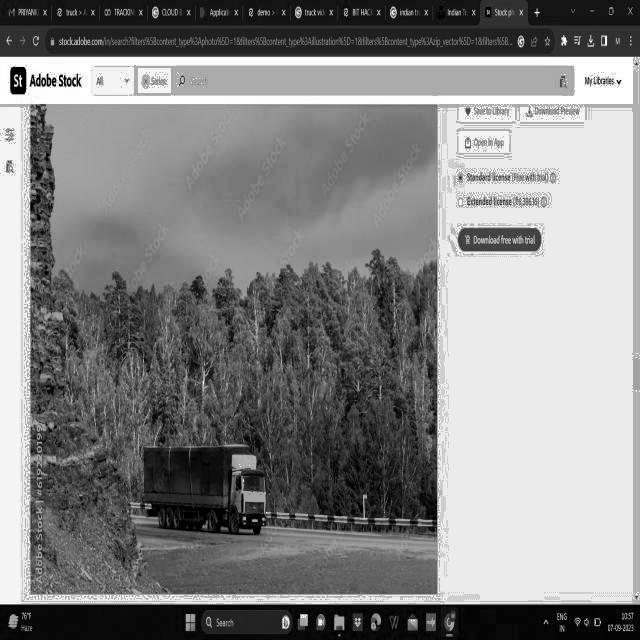HCV: (131, 420, 289, 556)
